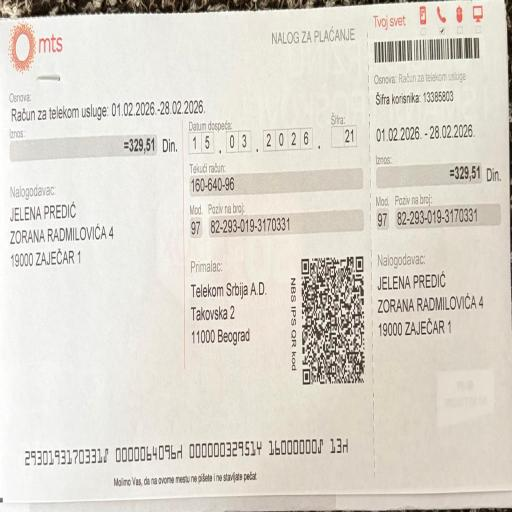mts_uplatnica: (372, 116, 503, 248)
